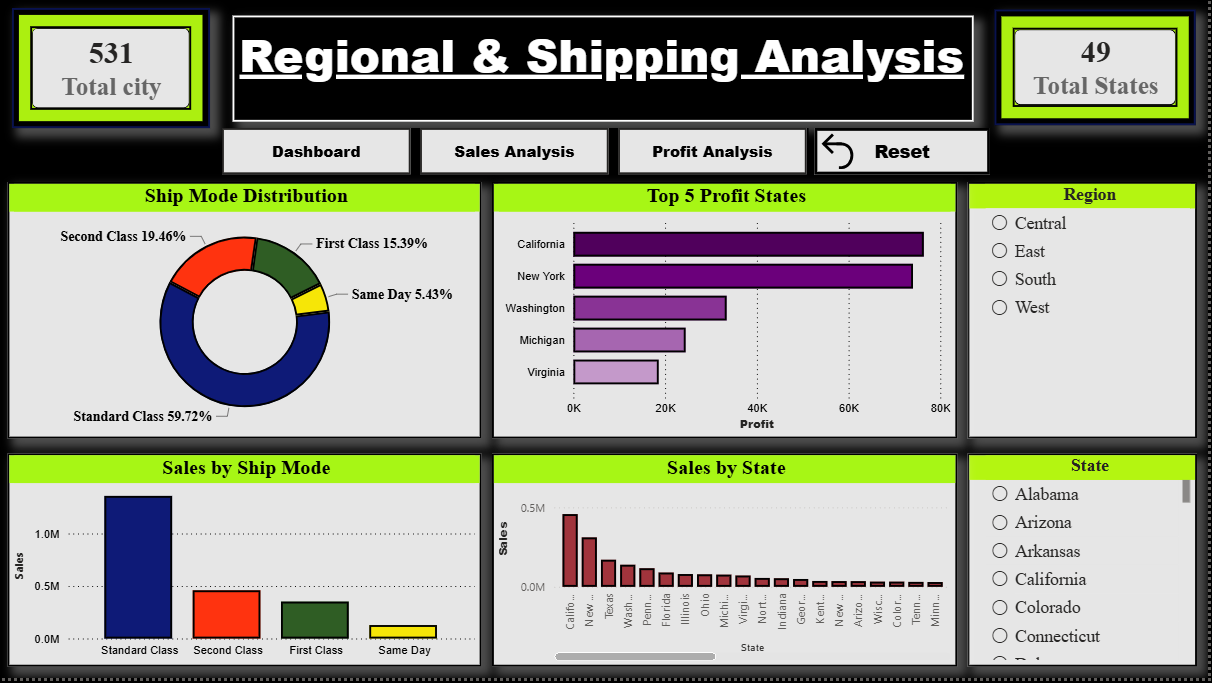

The page's visual inventory and layout, read from the dashboard file:
{"tool":"powerbi","page":{"name":"Regional Analysis","canvas":[1280,720],"ordinal":3},"visuals":[{"type":"textbox","box":[246,17.5,785.8,112.9],"z":0},{"type":"cardVisual","fields":{"Data":["SampleSuperstore.Total States"]},"box":[1054,11.1,213.1,122.5],"z":1000},{"type":"cardVisual","fields":{"Data":["SampleSuperstore.Total city"]},"box":[12,9.5,210,127.2],"z":2000},{"type":"donutChart","title":"Ship Mode Distribution","fields":{"Category":["SampleSuperstore.Ship Mode"],"Y":["CountNonNull(SampleSuperstore.Ship Mode)"]},"box":[8,194.1,502.6,272],"z":3000},{"type":"clusteredColumnChart","title":"Sales by Ship Mode","fields":{"Category":["SampleSuperstore.Ship Mode"],"Y":["Sum(SampleSuperstore.Sales)"]},"box":[8,482,502.6,225.9],"z":4000},{"type":"listSlicer","fields":{"Values":["SampleSuperstore.Region"]},"box":[1026,194.1,243.4,272],"z":5000},{"type":"listSlicer","fields":{"Values":["SampleSuperstore.State"]},"box":[1026,482,243.4,225.9],"z":6000},{"type":"barChart","title":"Top 5 Profit States","fields":{"Y":["Sum(SampleSuperstore.Profit)"],"Category":["SampleSuperstore.State"],"Series":["SampleSuperstore.State"]},"box":[522,194.1,493.1,272],"z":7000},{"type":"clusteredColumnChart","title":"Sales by State","fields":{"Y":["Sum(SampleSuperstore.Sales)"],"Category":["SampleSuperstore.State"]},"box":[522,482,493,226],"z":8000},{"type":"pageNavigator","box":[235.4,136.8,621.9,49.3],"z":9000},{"type":"actionButton","title":"Reset","box":[864,136.8,186.1,49.3],"z":10000}]}

Visuals, with their boxes in screenshot pixels (x1, y1, x2, y2), scaled from the page's 1280x720 canvas onto the 1212x683 screenshot:
textbox: <region>233, 17, 977, 124</region>
cardVisual - SampleSuperstore.Total States: <region>998, 11, 1200, 127</region>
cardVisual - SampleSuperstore.Total city: <region>11, 9, 210, 130</region>
"Ship Mode Distribution" donutChart: <region>8, 184, 483, 442</region>
"Sales by Ship Mode" clusteredColumnChart: <region>8, 457, 483, 672</region>
listSlicer - SampleSuperstore.Region: <region>971, 184, 1202, 442</region>
listSlicer - SampleSuperstore.State: <region>971, 457, 1202, 672</region>
"Top 5 Profit States" barChart: <region>494, 184, 961, 442</region>
"Sales by State" clusteredColumnChart: <region>494, 457, 961, 672</region>
pageNavigator: <region>223, 130, 812, 177</region>
"Reset" actionButton: <region>818, 130, 994, 177</region>
